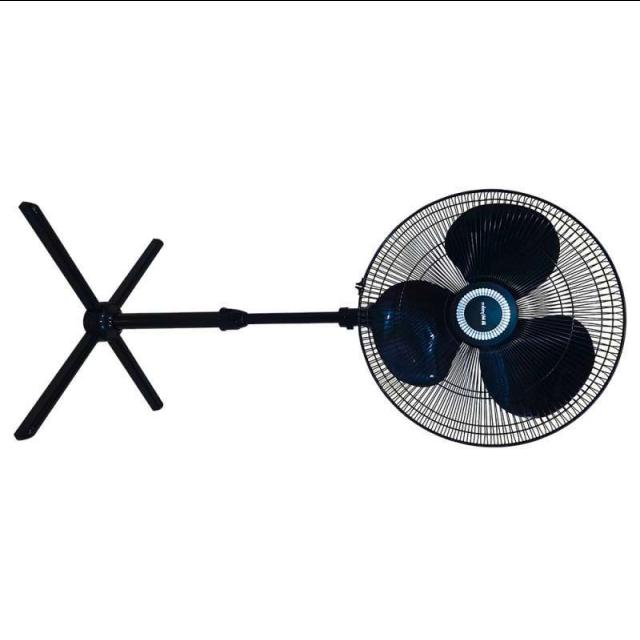fan: (10, 182, 632, 456)
